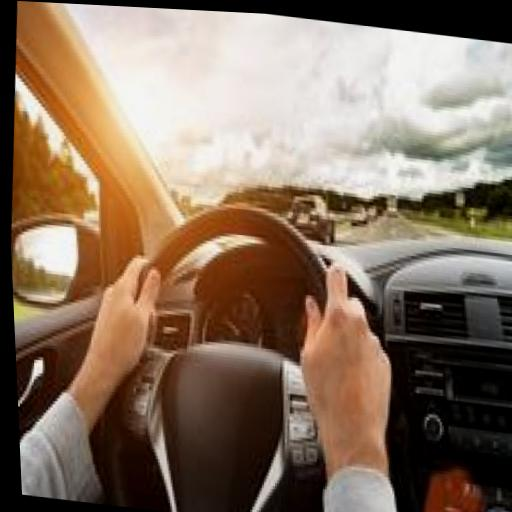Hands-on-the-Wheel: (253, 239, 443, 481), (64, 231, 193, 412)
